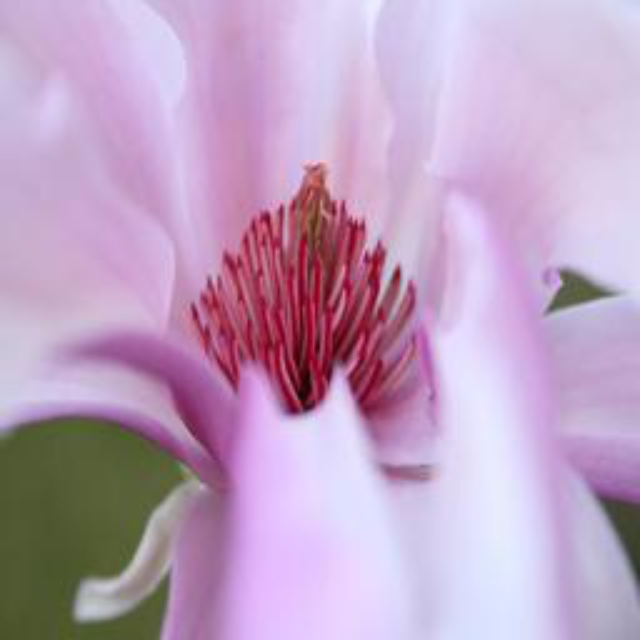magnolia: (1, 1, 633, 632)
